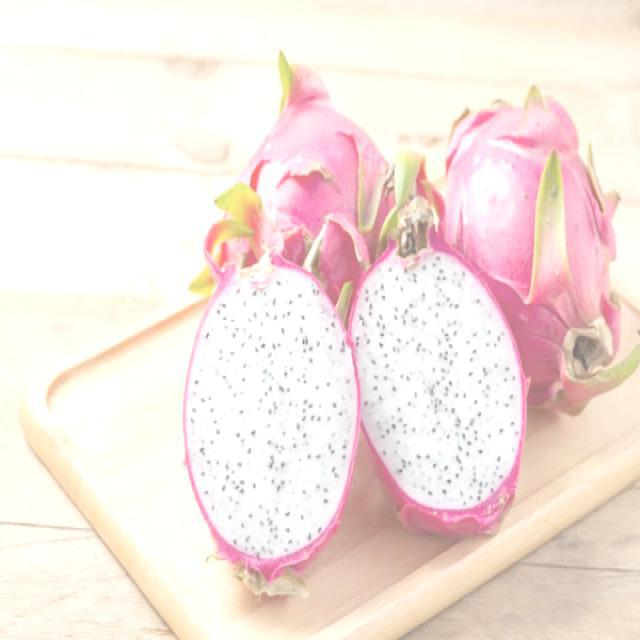trang: (432, 86, 639, 415), (180, 248, 358, 582), (189, 52, 409, 294), (352, 245, 526, 536)
